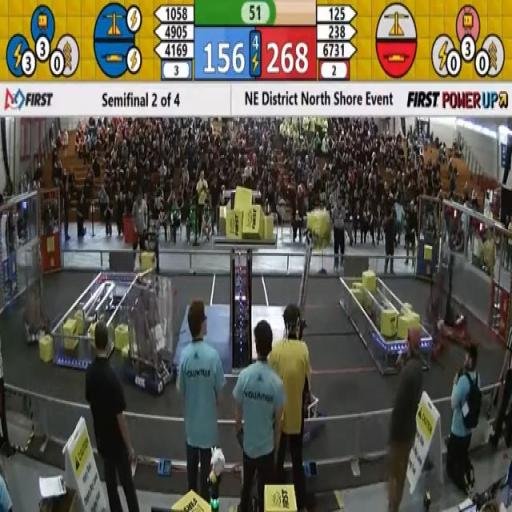robot: (118, 274, 180, 399), (420, 265, 454, 371), (20, 239, 53, 346), (444, 249, 476, 351), (135, 227, 163, 281)
